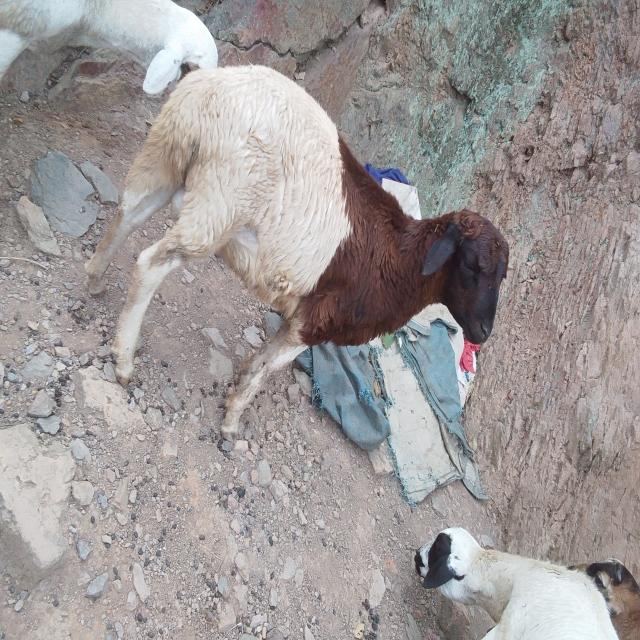sheep: (64, 19, 625, 514)
